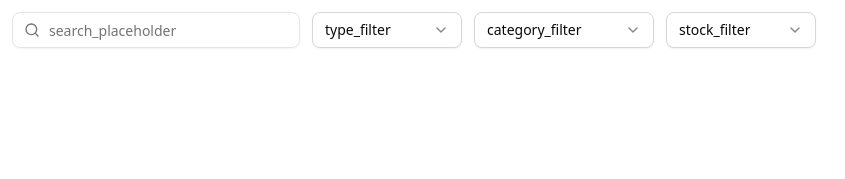
Test: CatalogFilterBar › Stock filter functionality › should show stock options when available
Click the dropdown "stock_filter". click: (741, 30)
box: left=666, top=12, right=816, bottom=48
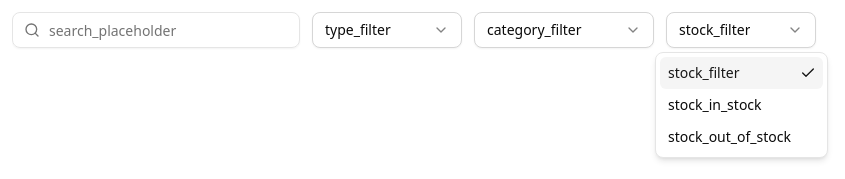
Result: the option "stock_in_stock" is shown at left=668, top=95, right=762, bottom=114
Result: the option "stock_out_of_stock" is shown at left=668, top=127, right=791, bottom=146
